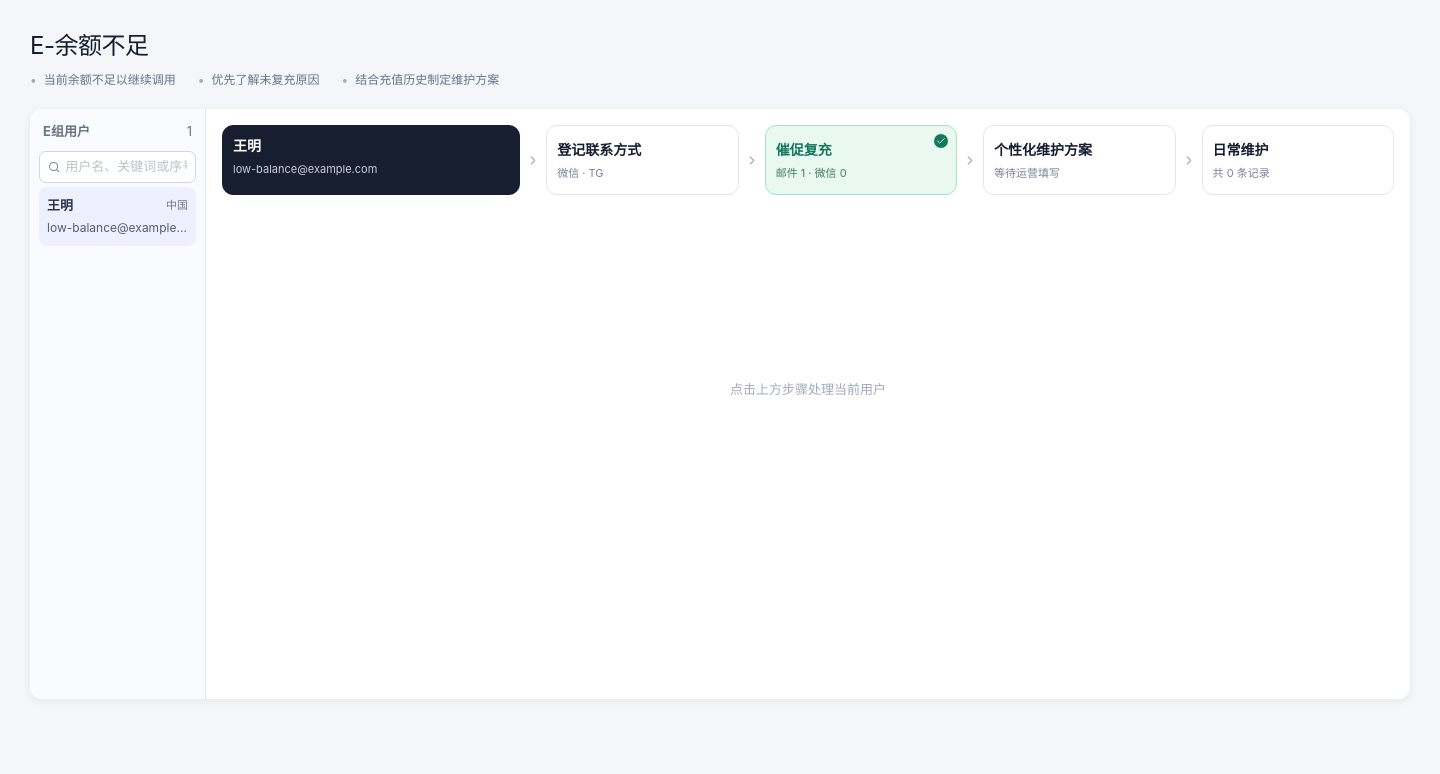
Test: EGroupWorkspace › opens email and WeChat follow-up records from the recharge action
Click the button "催促复充 邮件 1 · 微信 0".
click(861, 160)  # box [765,125,957,195]
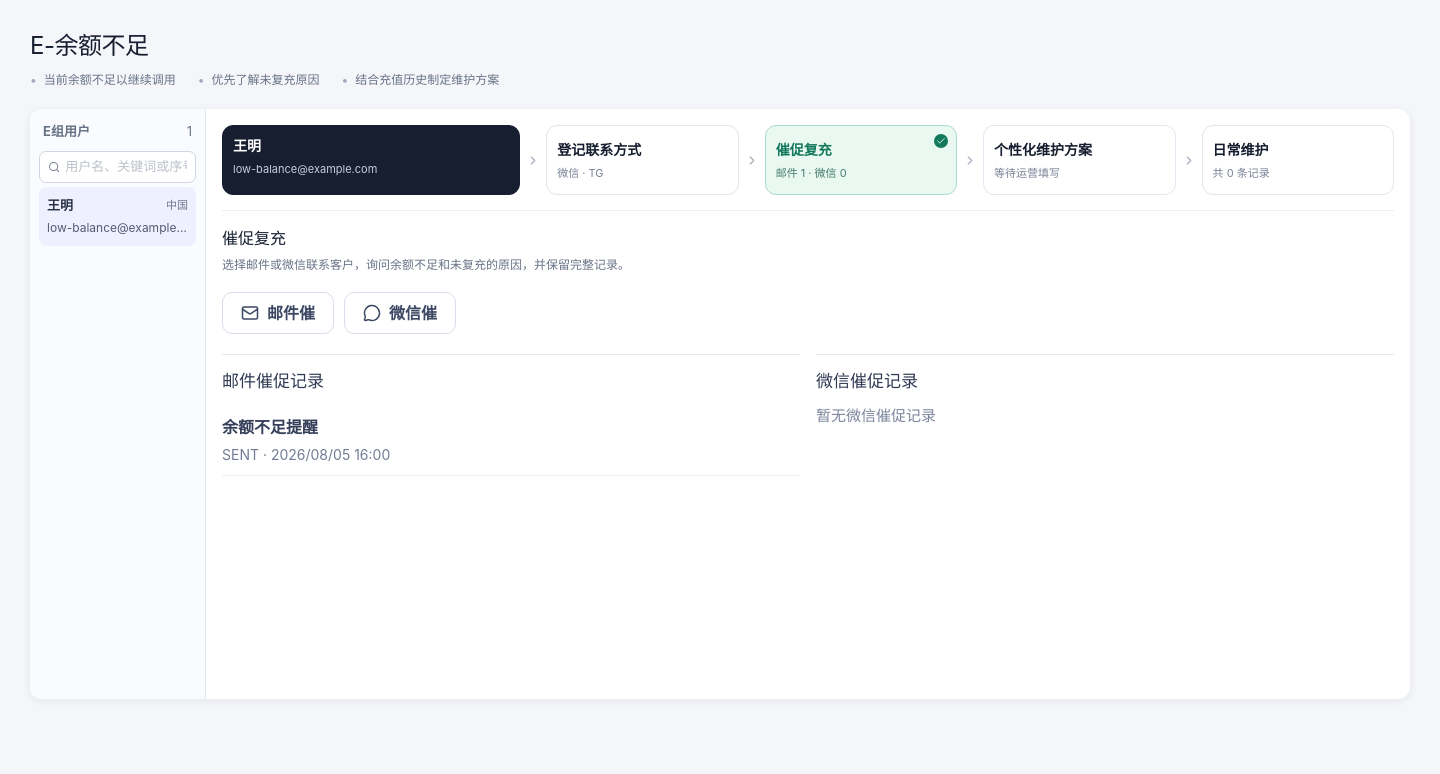
expect the button "邮件催" is shown: met
expect the button "微信催" is shown: met, box [344,292,456,334]
Click the button "邮件催".
click(278, 313)  # box [222,292,334,334]
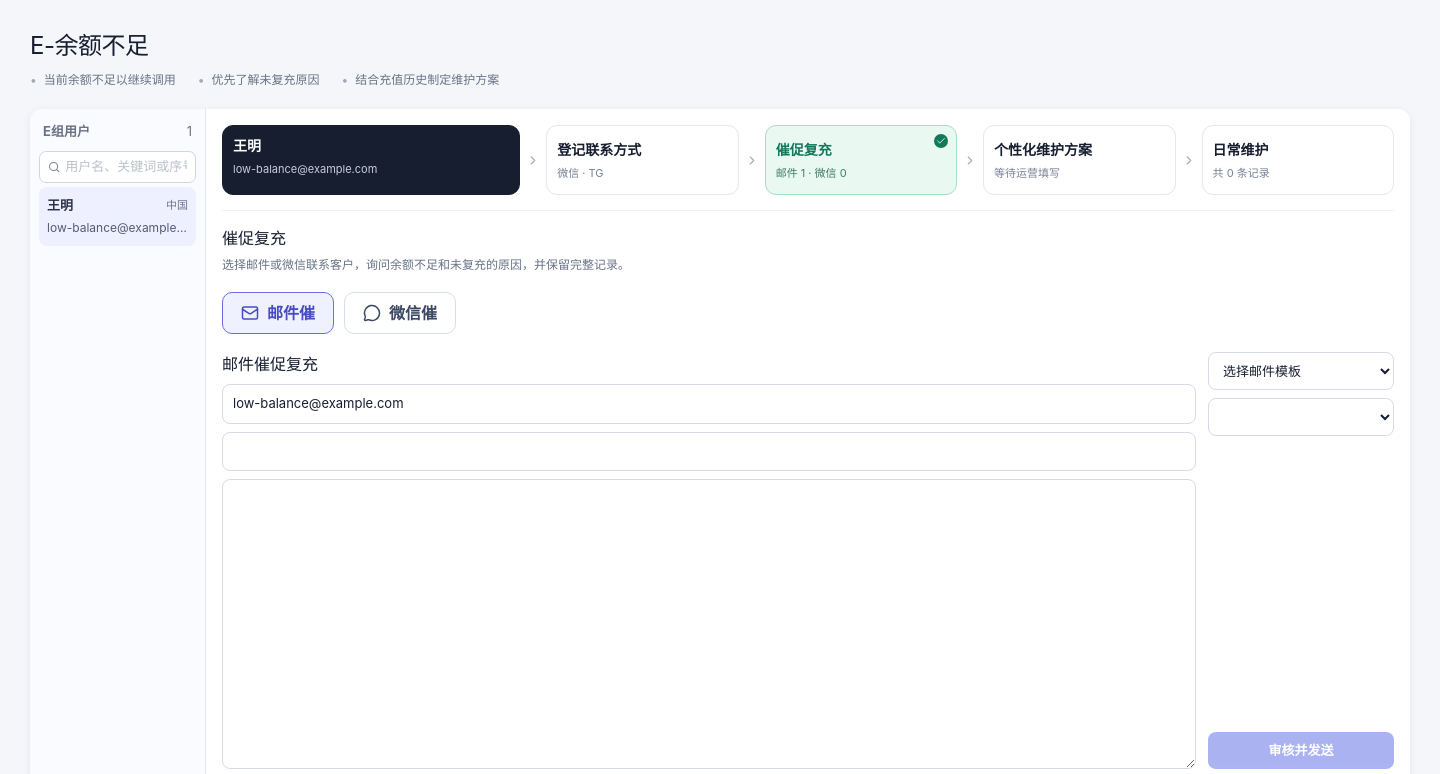
expect the heading "邮件催促复充" is shown: met, box [222,354,318,374]
Click the button "微信催".
click(400, 313)  # box [344,292,456,334]
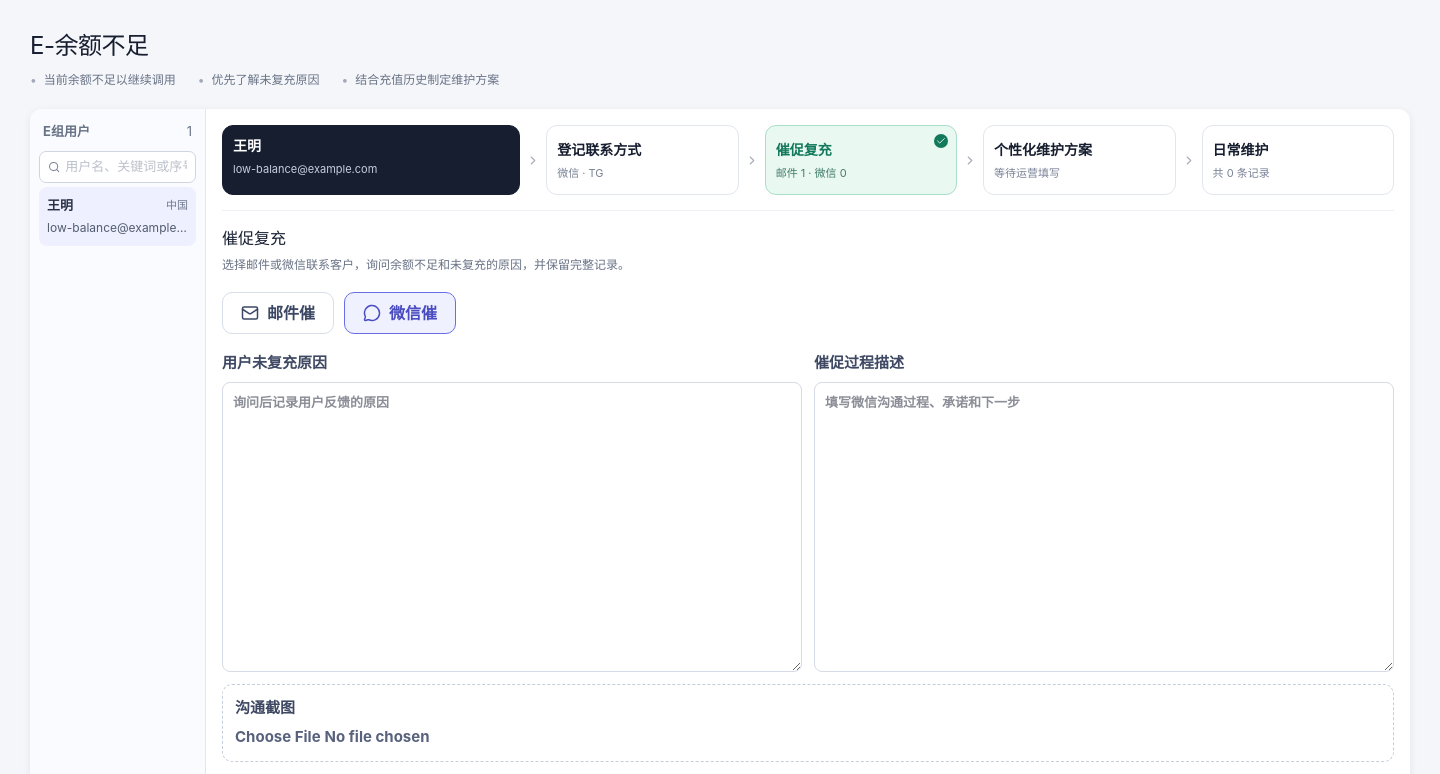
expect the text box labelled "催促过程描述" is shown: met, box [814,382,1394,672]
expect the file field labelled "沟通截图" is shown: met, box [235,726,1381,748]
